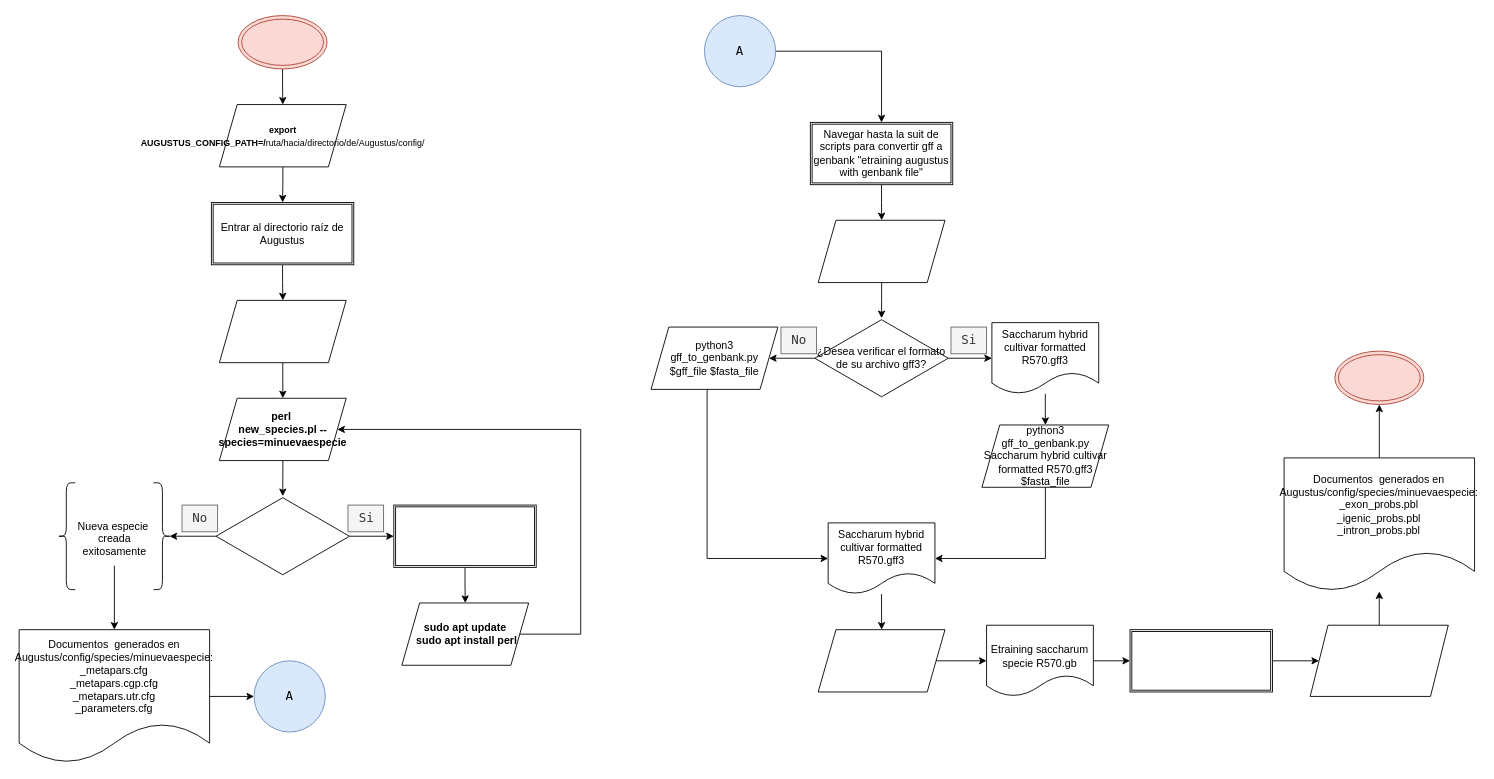
Image size: 1494x779. Some labels were removed from this diagram. The centre of each missing label's shape, as x and y in pixels:
"./format_genbank_R570.sh" belongs at point (881, 660).
"./gff_to_genbank.sh archivo.gff archivo.fasta" belongs at point (881, 251).
"cd scripts/" belongs at point (282, 331).
"etraining --species=minuevaespecie Etraining_saccharum specie_R570.gb" belongs at point (1378, 660).
"Fin" belongs at point (1379, 377).
"Inicio" belongs at point (282, 42).
"Instalar perl en el sistema" belongs at point (464, 535).
"Navegar hasta el directorio raíz de augustus" belongs at point (1200, 660).
"¿Error producido?" belongs at point (282, 535).
